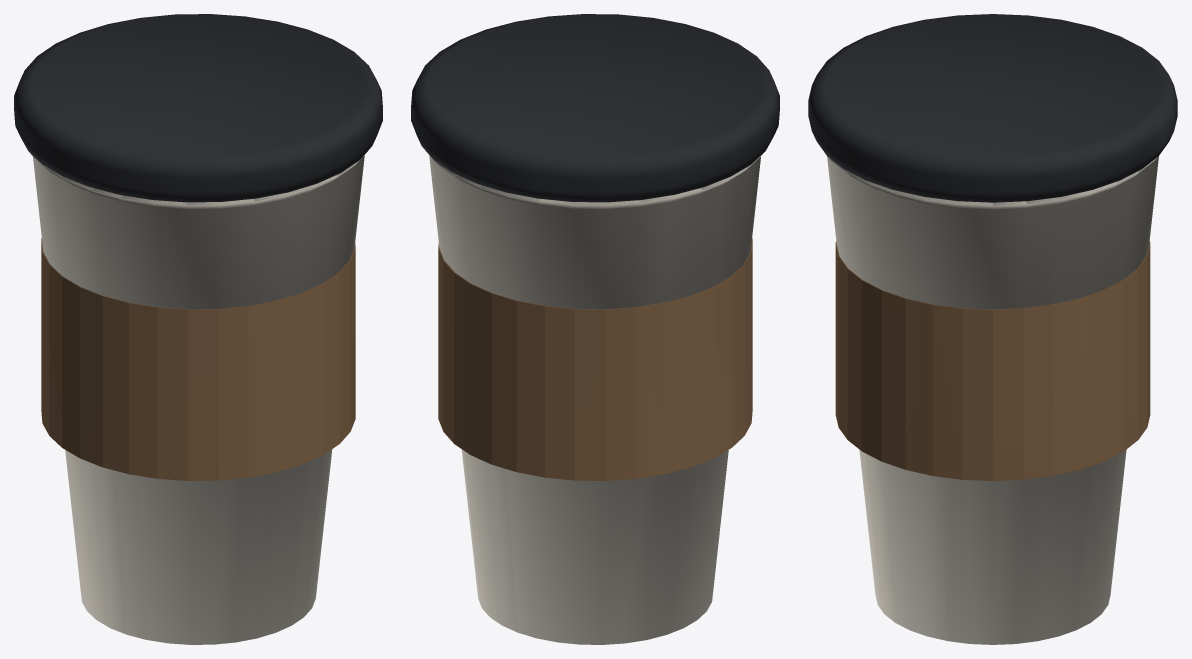
File: papercup.glb
3 views of the same model, side by side, from view 1: azimuth 30°, elevation 25°; view 2: azimuth 150°, elevation 25°; view 3: azimuth 270°, elevation 25° (orthographic).
Parts seen in each view (by area): view 1: Bicchiere; view 2: Bicchiere; view 3: Bicchiere.
Part boxes in pixels (x1,y1,x2,y2): Bicchiere: (14,14,382,644); Bicchiere: (411,14,779,644); Bicchiere: (808,14,1177,644).
Bounding box in the file's own units: 0.088 × 0.134 × 0.088.
